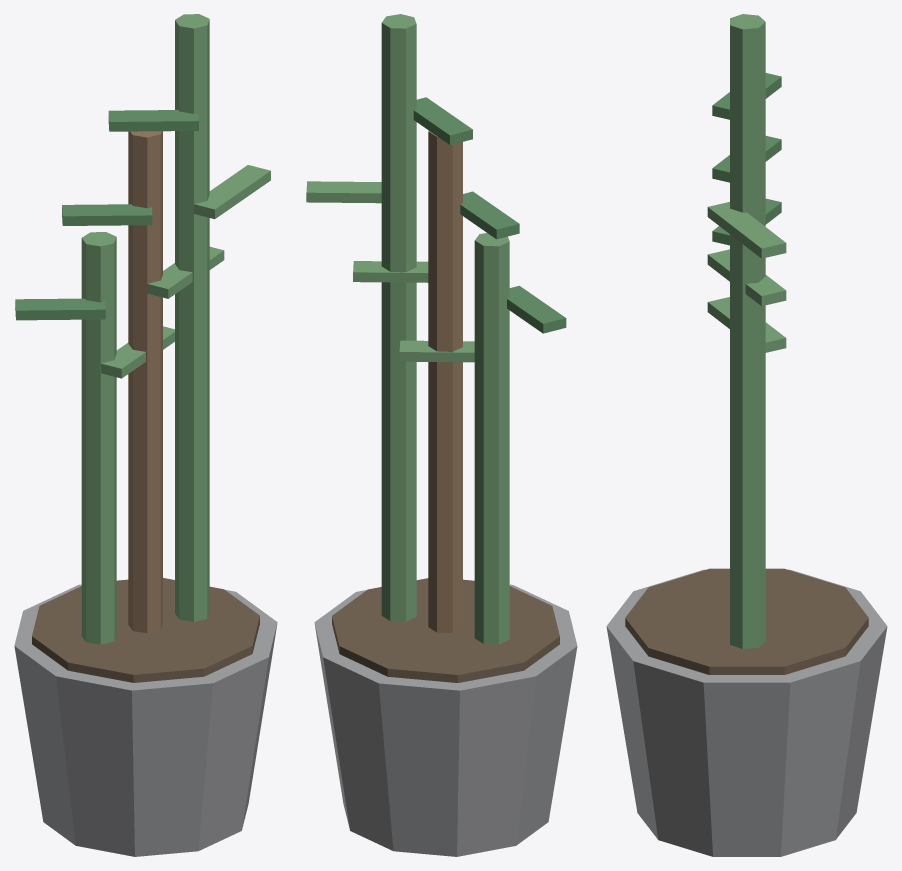
Rendered from pla_bambu.glb.
The picture shows the model from 3 angles, left to right: view 1: azimuth 30°, elevation 25°; view 2: azimuth 150°, elevation 25°; view 3: azimuth 270°, elevation 25°; orthographic projection. The views are drawn at different scales.
Parts seen in each view (by area): view 1: PLA_BAMBU_v01; view 2: PLA_BAMBU_v01; view 3: PLA_BAMBU_v01.
Part boxes in pixels (box(x1,y1,x2,y2)): PLA_BAMBU_v01: box(14, 14, 277, 856); PLA_BAMBU_v01: box(306, 14, 577, 856); PLA_BAMBU_v01: box(606, 14, 887, 856).
Bounding box in the file's own units: 0.3309 × 0.96 × 0.3.
